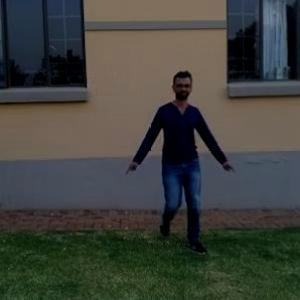land: (126, 80, 234, 244)
